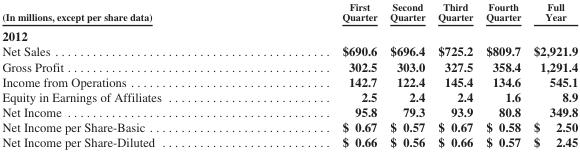table: (1, 0, 577, 149)
table column: (1, 0, 251, 149), (251, 0, 383, 149), (526, 0, 577, 149), (430, 0, 478, 149), (478, 0, 526, 149), (383, 0, 430, 149)
table column header: (1, 0, 577, 25)
table projected row header: (1, 25, 577, 43)
table row: (1, 0, 577, 25), (1, 25, 577, 43), (1, 103, 577, 119), (1, 43, 577, 58), (1, 58, 577, 73), (1, 73, 577, 88), (1, 88, 577, 103), (1, 119, 577, 134), (1, 134, 577, 149)
